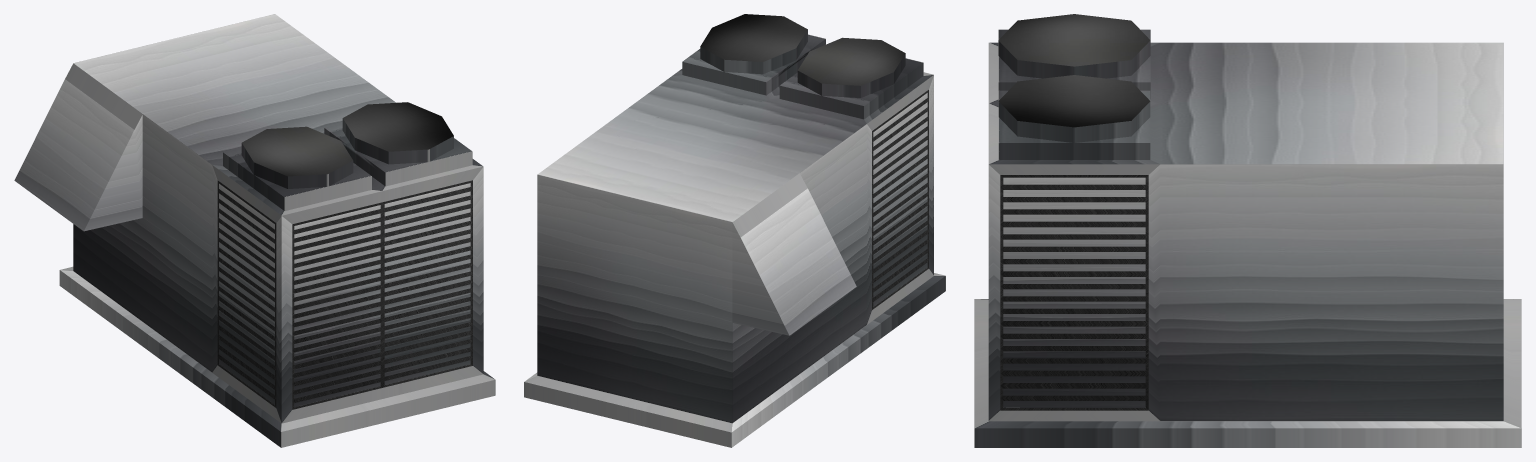
Rendered from aircon.fbx.
The picture shows the model from 3 angles, left to right: view 1: azimuth 30°, elevation 25°; view 2: azimuth 150°, elevation 25°; view 3: azimuth 270°, elevation 25°; orthographic projection. The views are drawn at different scales.
Visible parts, largest first — view 1: Box001; view 2: Box001; view 3: Box001.
Part boxes in pixels (<box>): Box001: <box>14,14,495,447</box>; Box001: <box>524,14,945,447</box>; Box001: <box>974,14,1521,447</box>.
Size of the model in its own units: 65.8 by 59.5 by 94.45.
